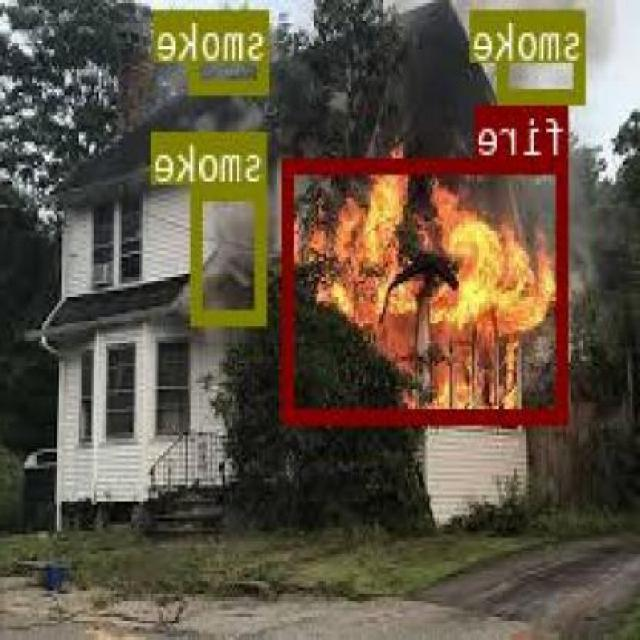Fire: (286, 158, 569, 420)
Smoke: (194, 183, 268, 323), (502, 9, 586, 102), (192, 7, 270, 93)
